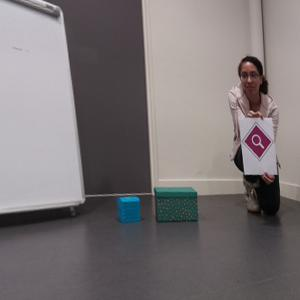search: (243, 121, 273, 160)
